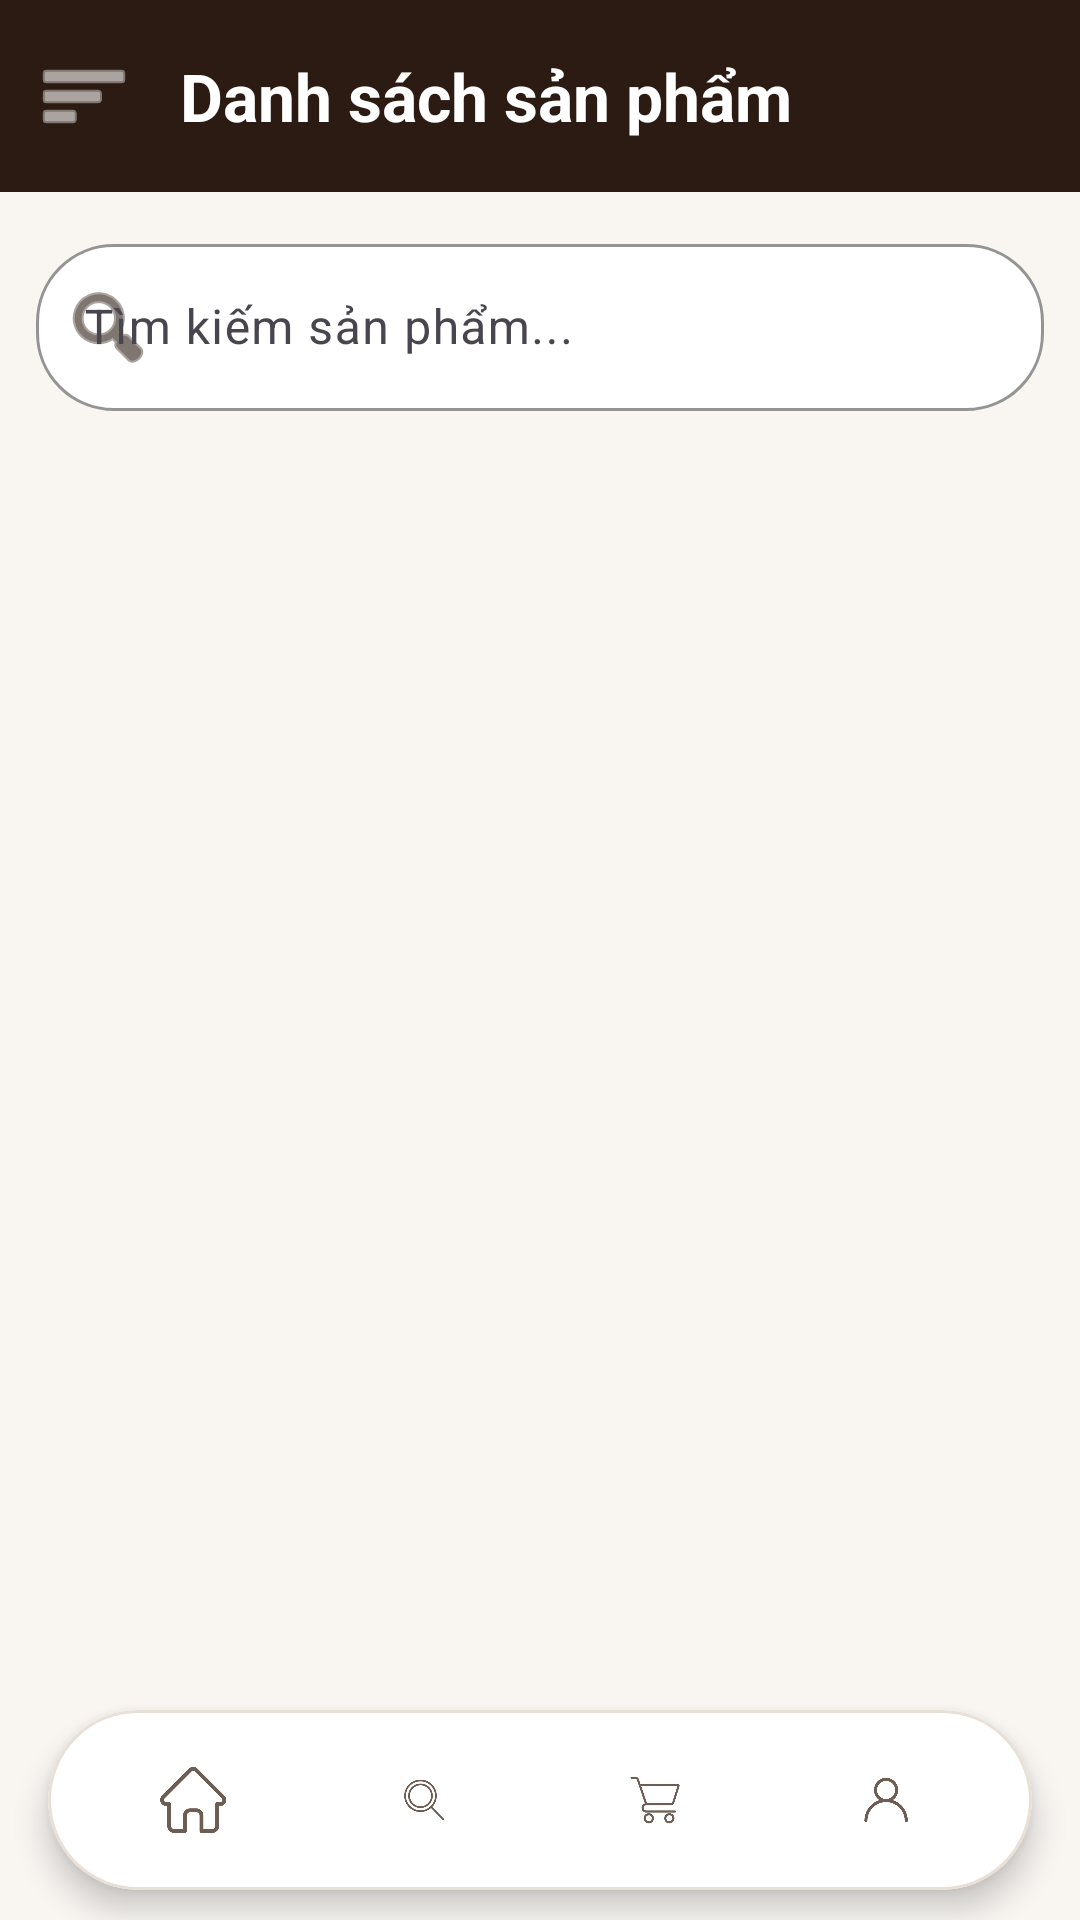

Where to tap for icons on this 1080px x 1920px app screen, as [x,y]:
account: [886,1800]
cart: [655,1800]
home: [193,1800]
